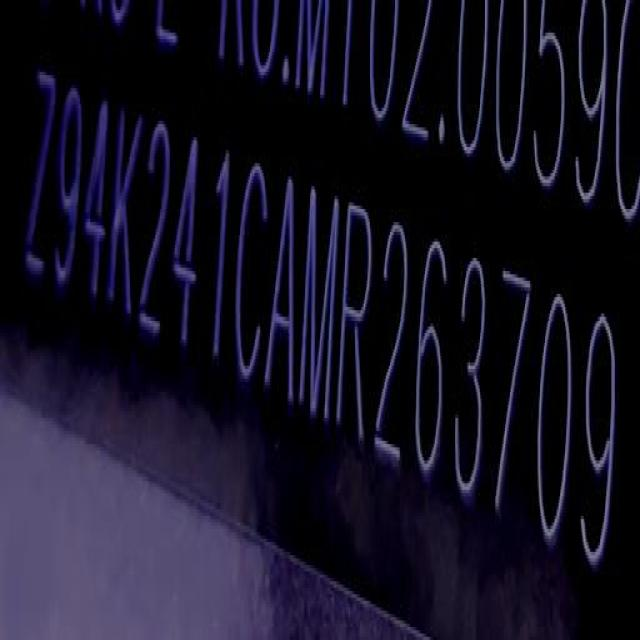0: (538, 288, 576, 559)
1: (209, 146, 232, 377)
2: (378, 214, 412, 474), (138, 118, 172, 342)
3: (457, 250, 489, 510)
4: (173, 139, 206, 357), (82, 90, 112, 306)
6: (413, 234, 448, 489)
7: (496, 264, 533, 538)
9: (582, 309, 620, 577), (49, 79, 84, 297)
A: (267, 175, 302, 411)
C: (233, 156, 271, 394)
K: (106, 101, 144, 324)
N: (300, 188, 340, 429)
R: (338, 198, 376, 449)
Z: (20, 63, 58, 289)
